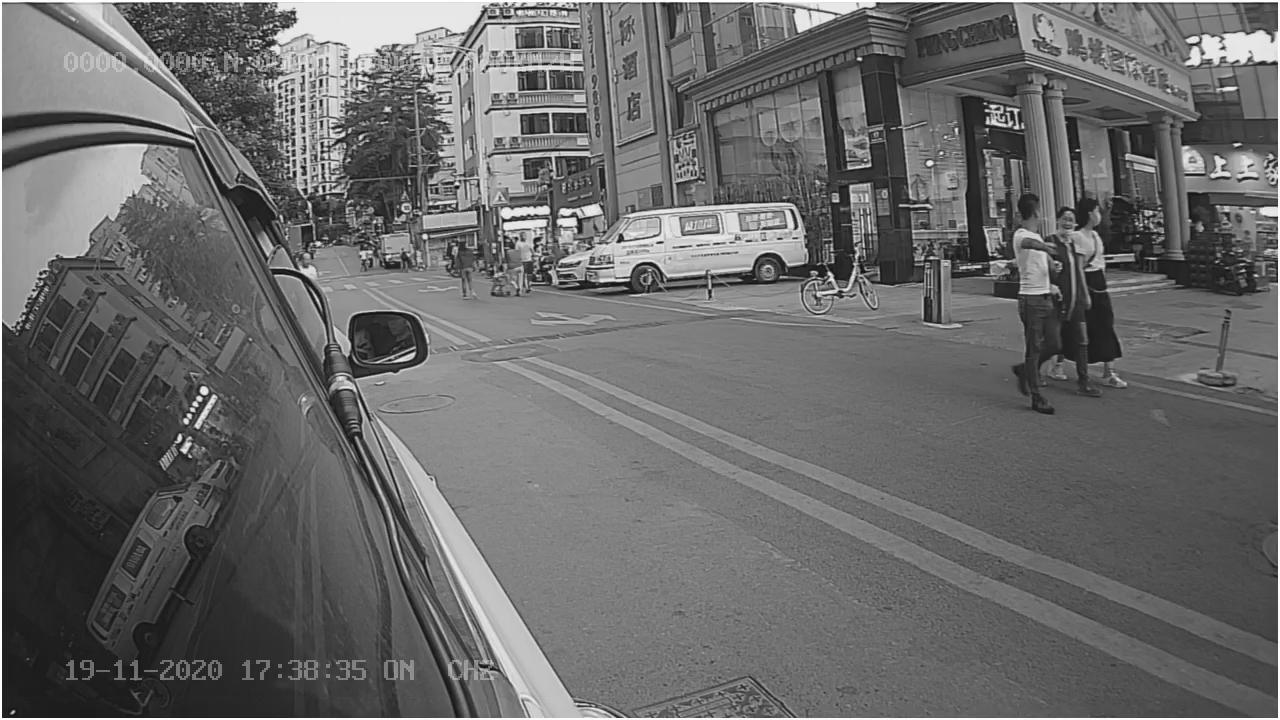person: (994, 192, 1073, 416)
